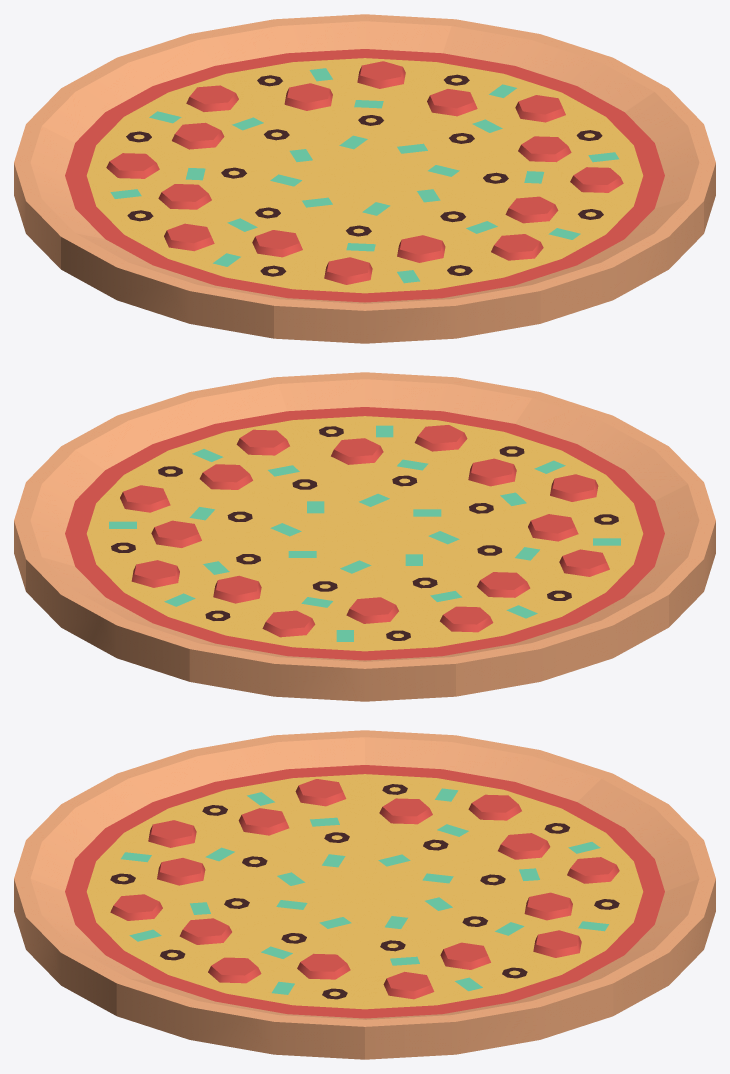
Rendered from pizza.glb.
3 renders of one model, top to bottom at view 1: azimuth 30°, elevation 25°; view 2: azimuth 150°, elevation 25°; view 3: azimuth 270°, elevation 25°, orthographic.
Visible parts, largest first — view 1: slice1; view 2: slice1; view 3: slice1.
Part boxes in pixels (box(x1,y1,x2,y2)): slice1: box(14, 14, 715, 343); slice1: box(14, 372, 715, 701); slice1: box(14, 730, 715, 1059).
Size of the model in its own units: 0.8418 by 0.0435 by 0.8418.
Materials: 1 (1 with a texture image).
